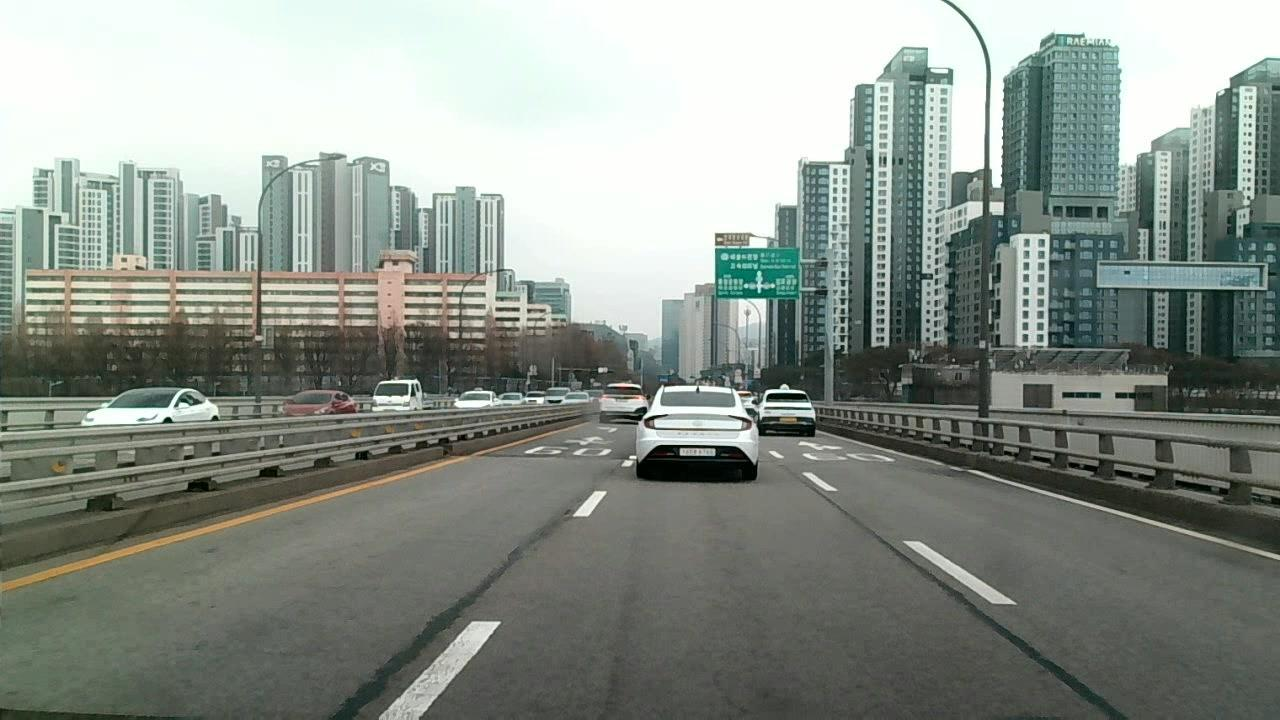vcrack: (324, 578, 485, 720), (953, 600, 1125, 717), (863, 526, 957, 595), (490, 509, 571, 575)
